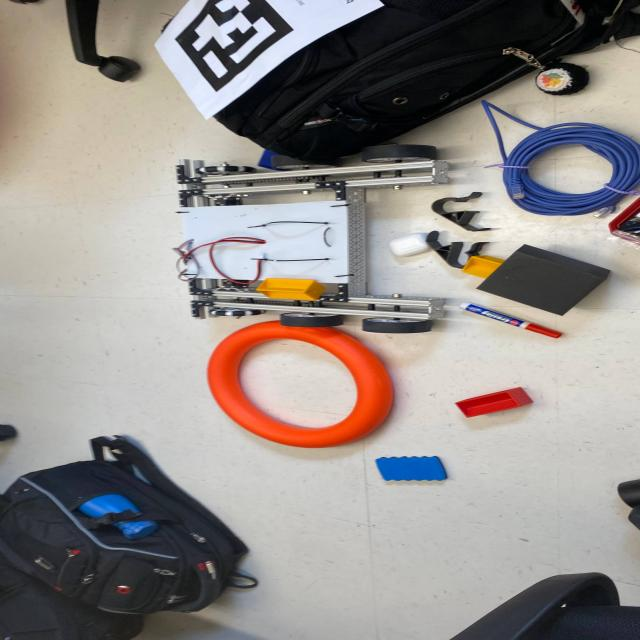blue-specimen: (258, 149, 276, 169)
red-specimen: (456, 387, 533, 418)
yellow-specimen: (256, 278, 325, 301), (462, 255, 504, 279)
